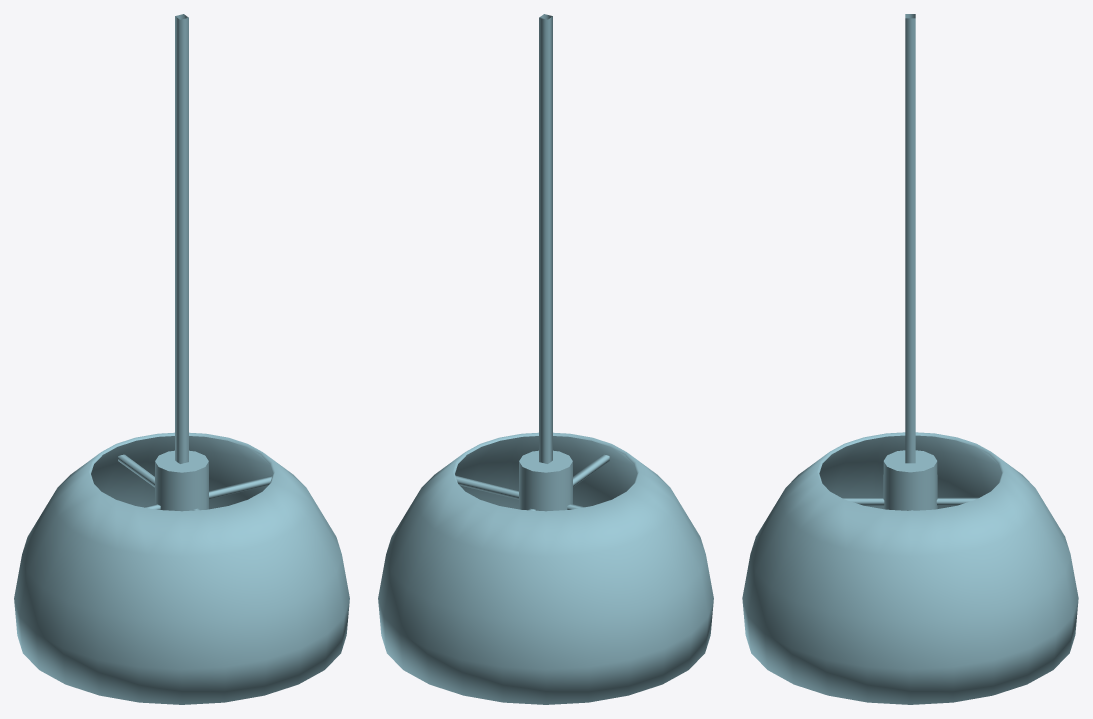
Rendered from lo_Prop_Lamp_B.fbx.
3 views of the same model, side by side, from view 1: azimuth 30°, elevation 25°; view 2: azimuth 150°, elevation 25°; view 3: azimuth 270°, elevation 25° (orthographic).
Visible parts, largest first — view 1: lo_Prop_Lamp_B_LOD0; view 2: lo_Prop_Lamp_B_LOD0; view 3: lo_Prop_Lamp_B_LOD0.
Boxes of the visible parts, x1,y1,x2,y2 form: lo_Prop_Lamp_B_LOD0: (14,14,349,704); lo_Prop_Lamp_B_LOD0: (378,14,713,704); lo_Prop_Lamp_B_LOD0: (742,14,1078,704).
Size of what is drawn, in the model's own units: 0.8537 by 1.73 by 0.8537.
